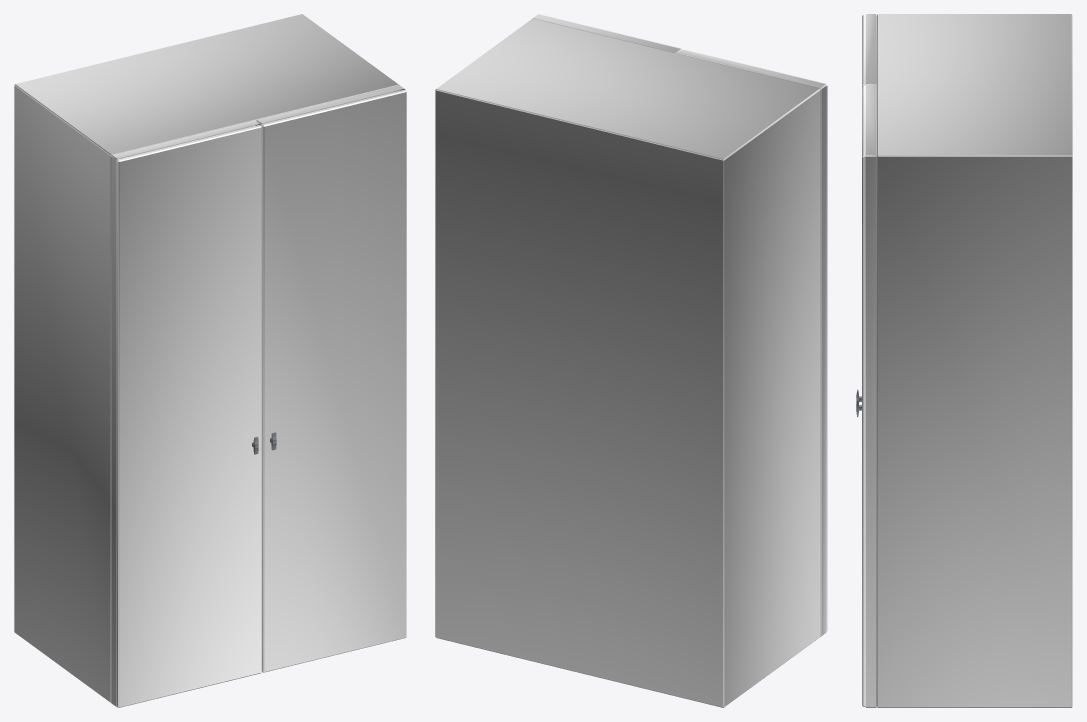
The model's file is wardrobe.glb.
The picture shows the model from 3 angles, left to right: view 1: azimuth 30°, elevation 25°; view 2: azimuth 150°, elevation 25°; view 3: azimuth 270°, elevation 25°; orthographic projection.
Parts seen in each view (by area): view 1: Dresser Closet_01, Mirror.001, Mirror.002, Door.L, Door.R; view 2: Dresser Closet_01, Door.L, Mirror.001, Door.R; view 3: Dresser Closet_01, Door.R, Mirror.002, Door.L.
Part boxes in pixels (x1,y1,x2,y2): Dresser Closet_01: (14, 14, 399, 702); Mirror.001: (116, 125, 261, 707); Mirror.002: (261, 89, 406, 672); Door.L: (111, 120, 260, 707); Door.R: (256, 85, 405, 672); Dresser Closet_01: (435, 18, 820, 707); Door.L: (677, 49, 826, 636); Mirror.001: (684, 49, 827, 630); Door.R: (533, 14, 681, 53); Dresser Closet_01: (876, 14, 1072, 707); Door.R: (866, 85, 876, 707); Mirror.002: (862, 86, 865, 706); Door.L: (866, 14, 876, 85).
Bounding box in the file's own units: 1.19 × 2.15 × 0.7626.
Materials: 4 (2 with a texture image).
